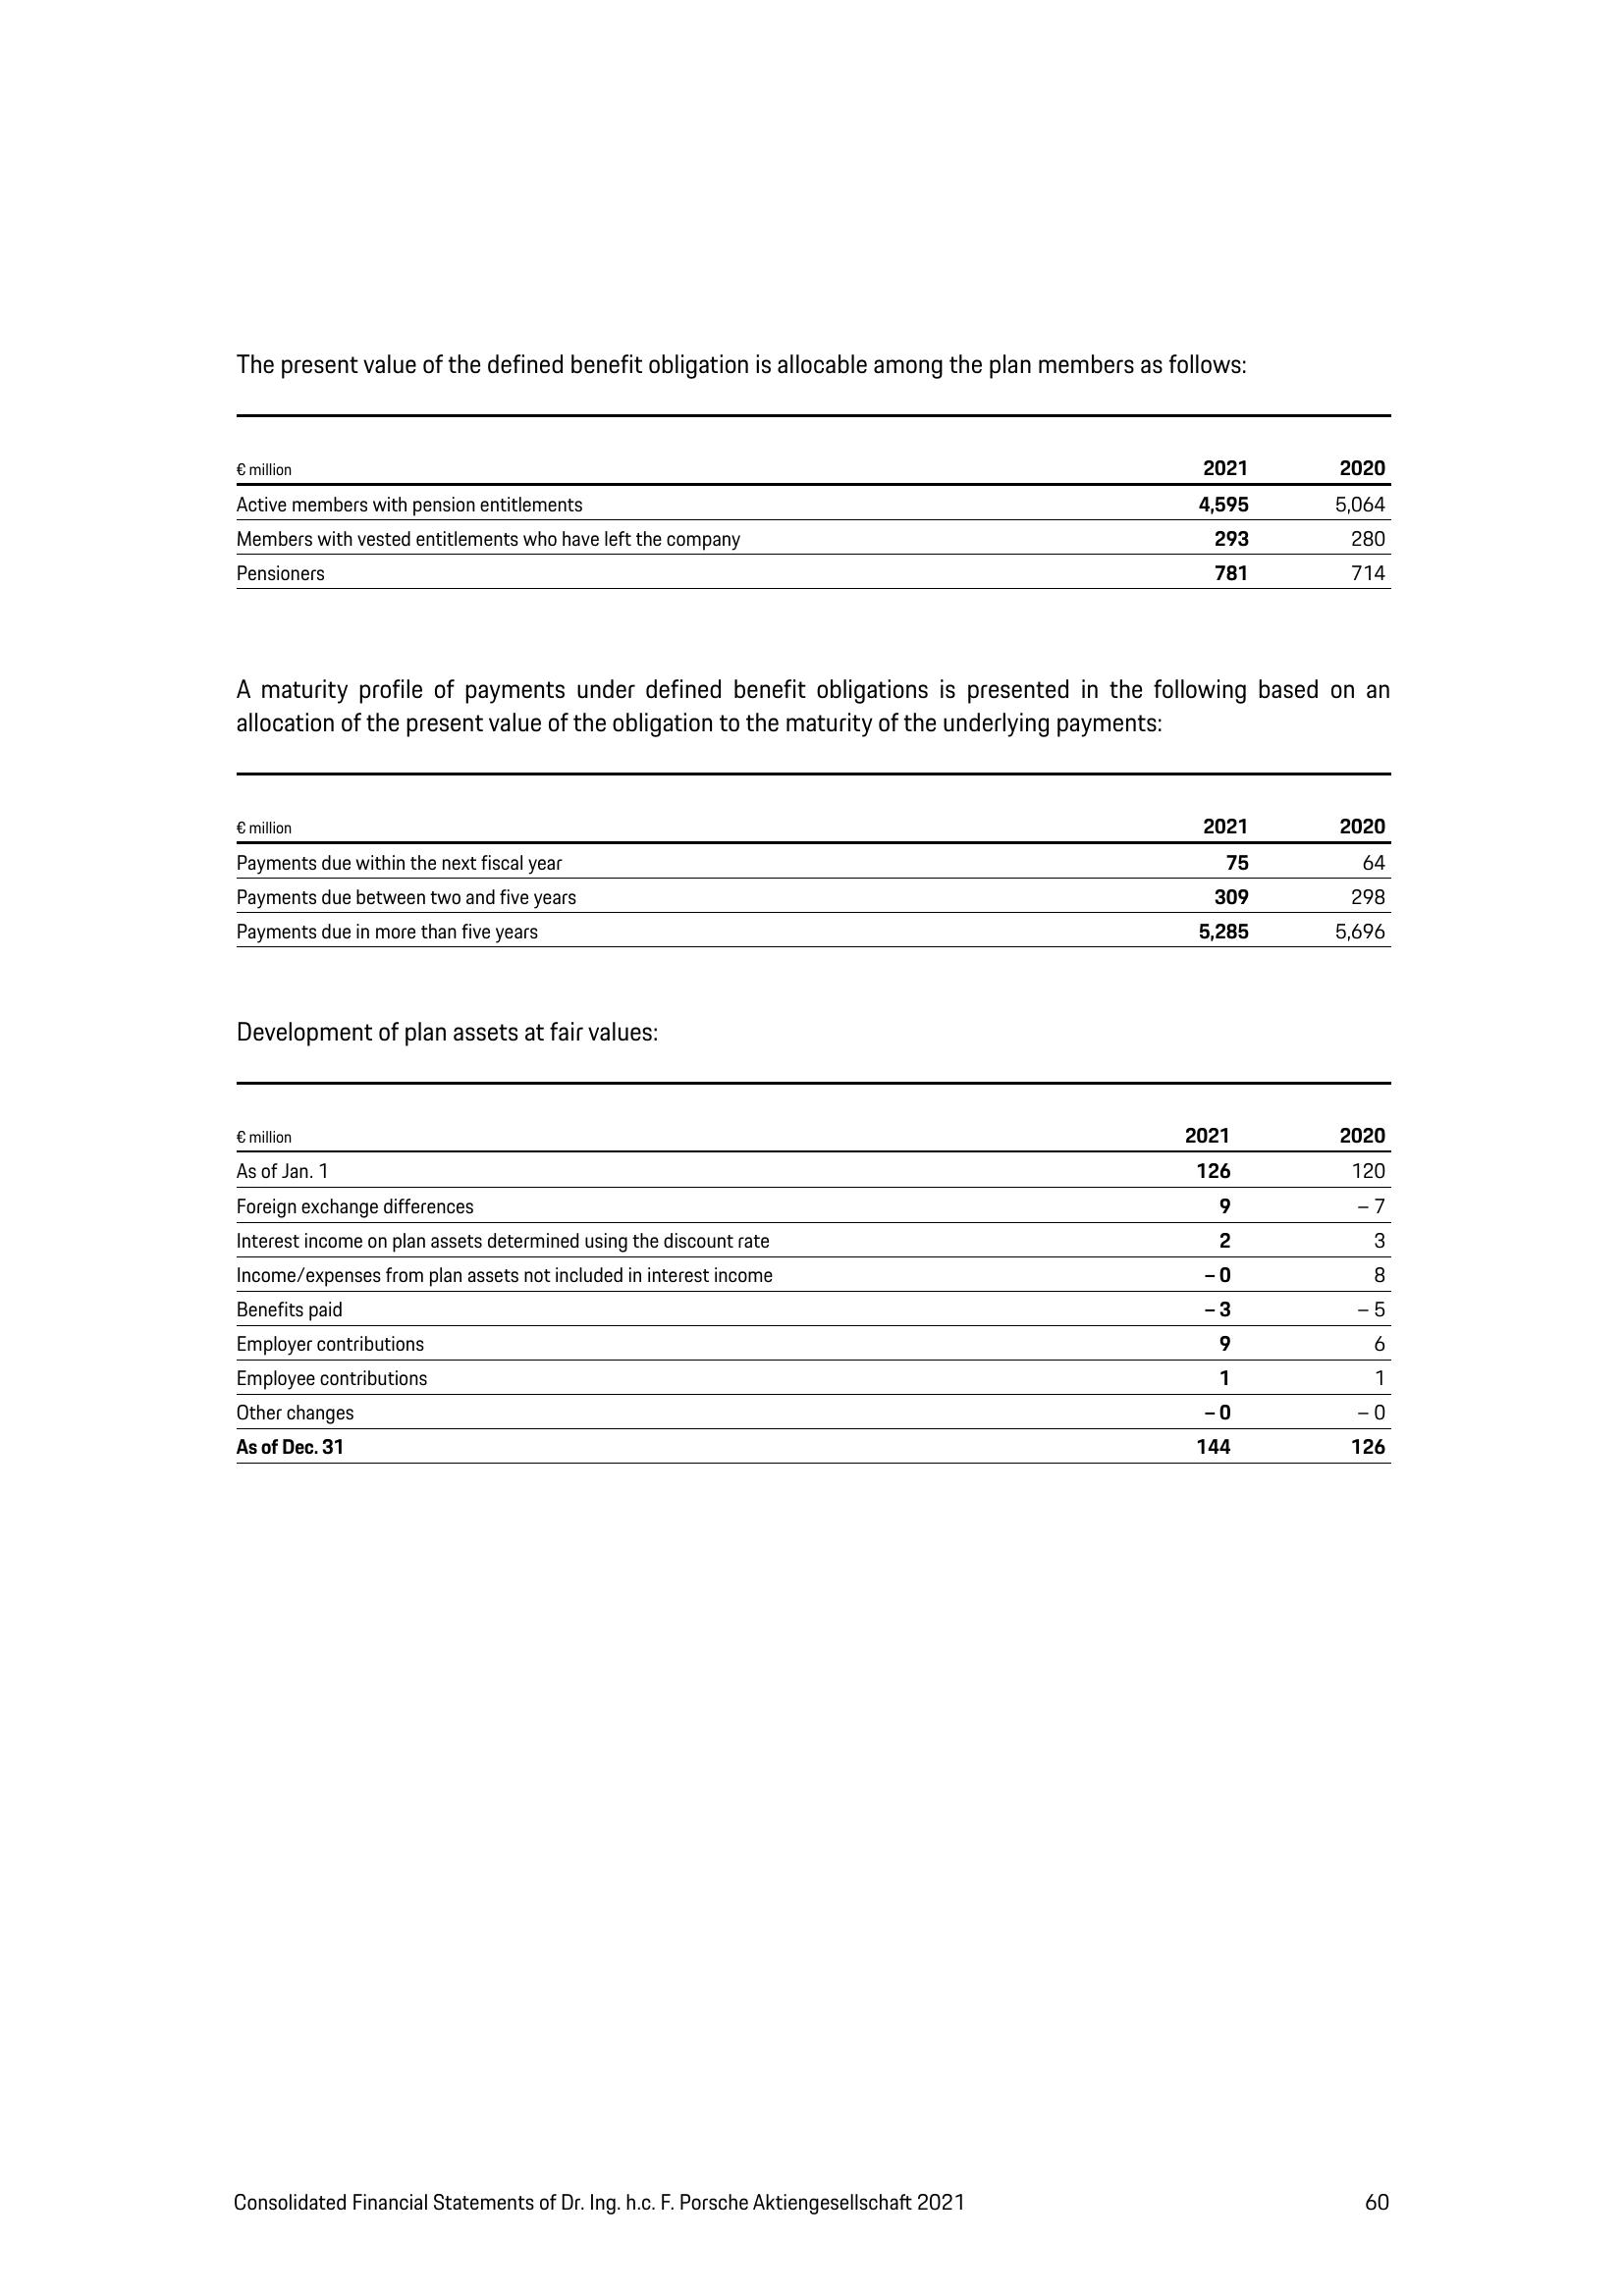Footer: (0, 2157, 1624, 2296)
Header: (0, 0, 1624, 197)
Table: (213, 1110, 1429, 1477), (213, 390, 1420, 627), (204, 757, 1429, 957)
